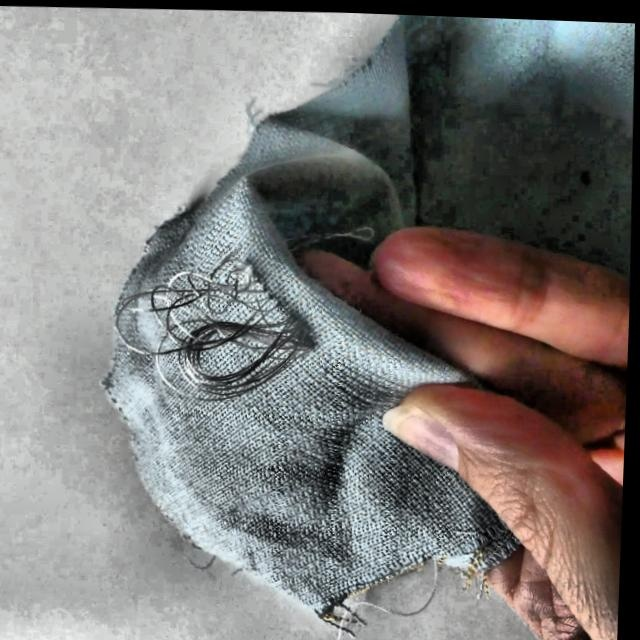Stitch: (100, 230, 342, 423)
